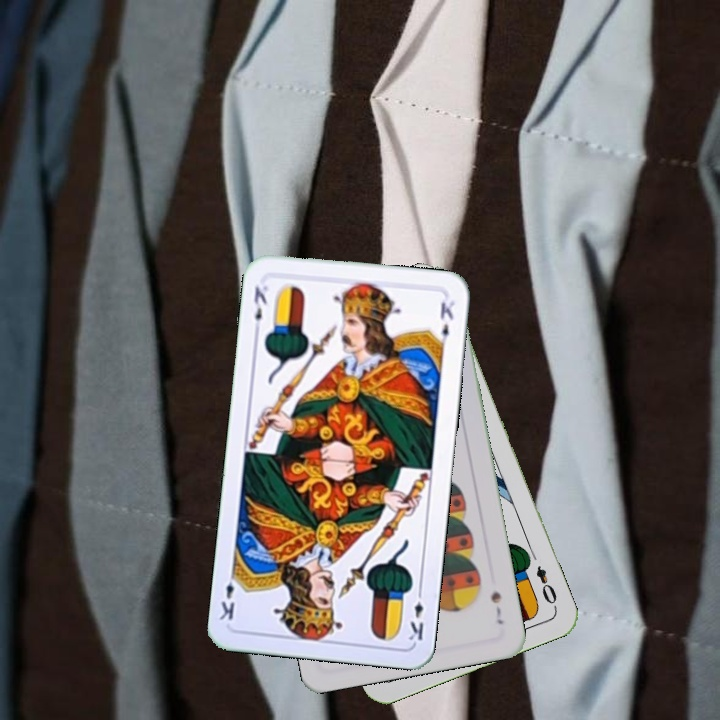EK: (405, 584, 426, 643), (249, 282, 270, 336)
EO: (532, 561, 560, 611)
S7: (487, 587, 506, 627)
